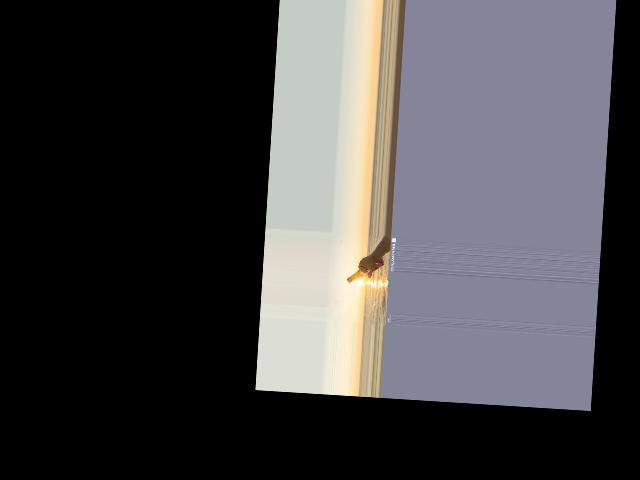beer: (346, 255, 384, 284)
